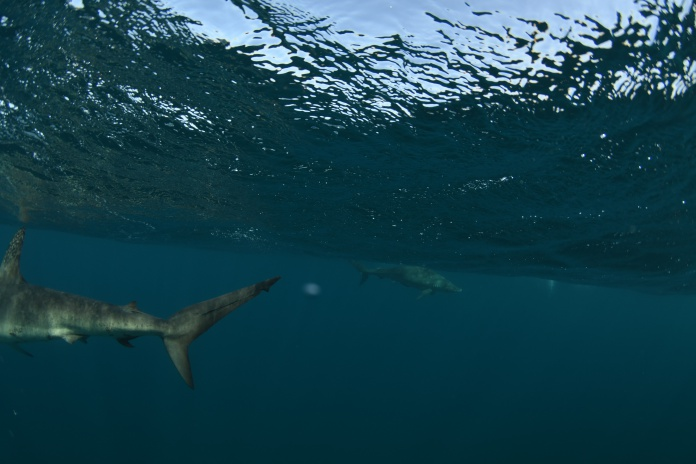Hammer: (1, 230, 292, 394), (341, 248, 470, 314)
